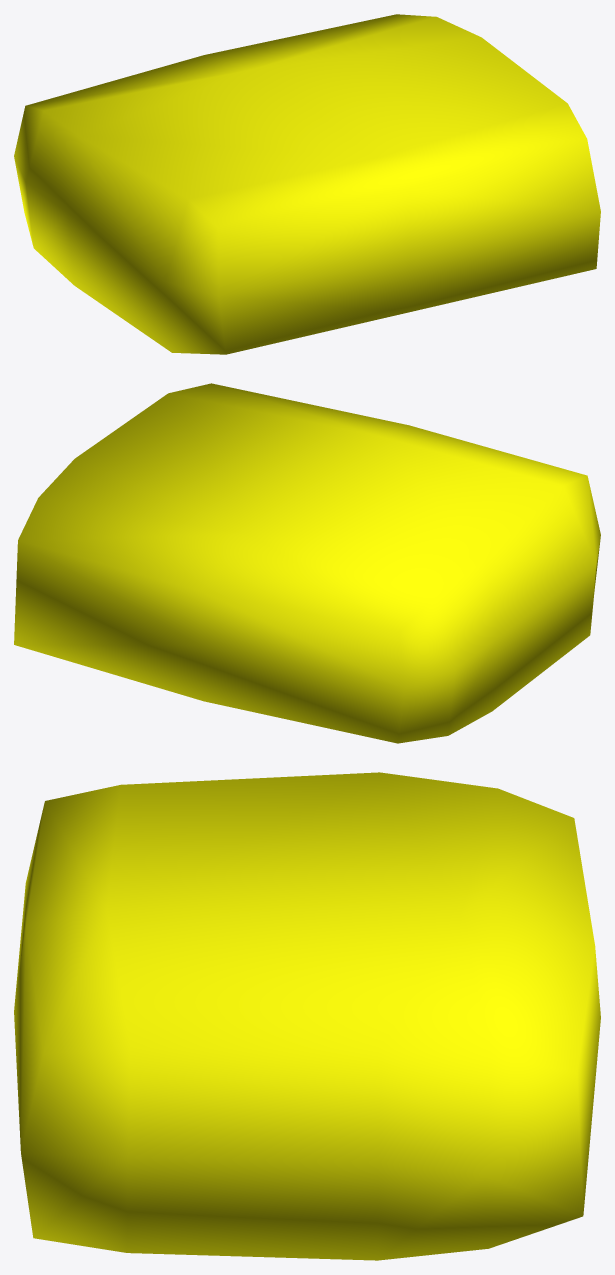
File: item_medikit.glb
The picture shows the model from 3 angles, top to bottom: view 1: azimuth 30°, elevation 25°; view 2: azimuth 150°, elevation 25°; view 3: azimuth 270°, elevation 25°; orthographic projection. The views are drawn at different scales.
Parts seen in each view (by area): view 1: item_medibag; view 2: item_medibag; view 3: item_medibag.
Boxes of the visible parts, x1,y1,x2,y2 form: item_medibag: (14,14,600,354); item_medibag: (14,383,600,743); item_medibag: (14,772,600,1260).
Bounding box in the file's own units: 0.6811 × 0.2313 × 0.577.
1 material, 1 textured.
